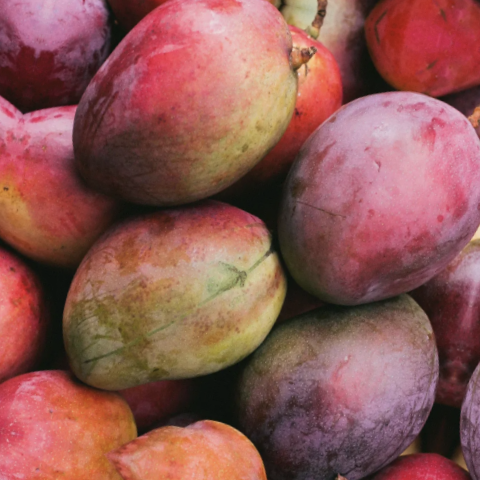mango: (24, 164, 328, 421), (31, 0, 340, 249), (258, 39, 480, 336), (207, 255, 469, 480)
